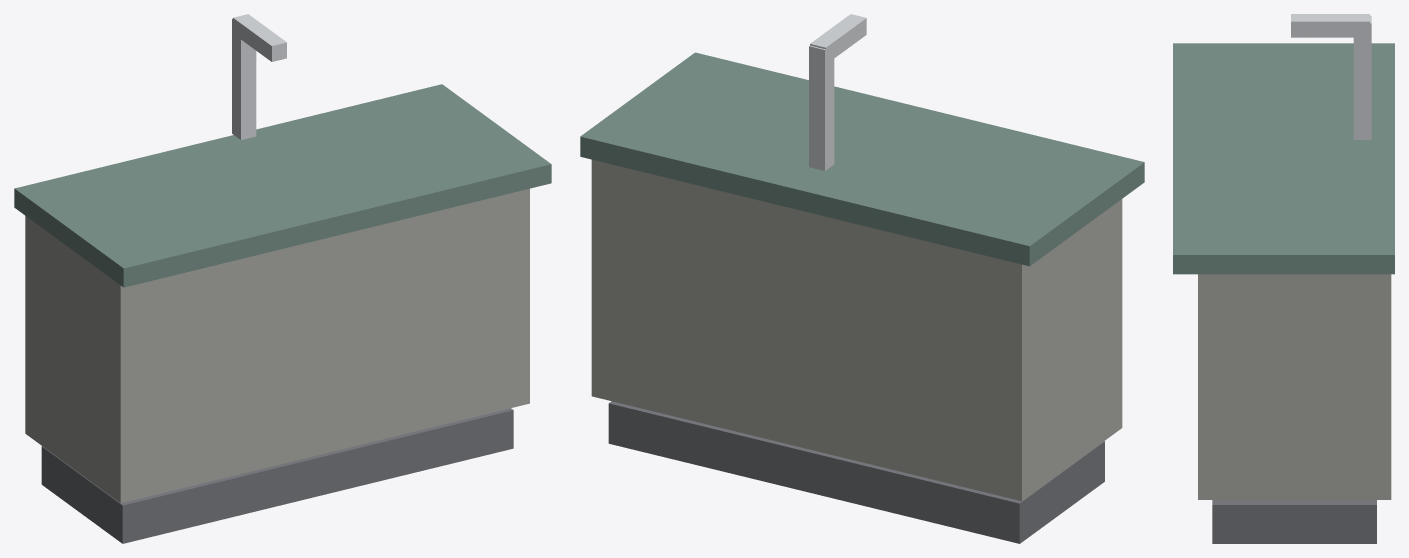
The model's file is mov_91bd95d403.gltf.
3 renders of one model, left to right at view 1: azimuth 30°, elevation 25°; view 2: azimuth 150°, elevation 25°; view 3: azimuth 270°, elevation 25°, orthographic. The views are drawn at different scales.
Visible parts, largest first — view 1: mov_91bd95d403; view 2: mov_91bd95d403; view 3: mov_91bd95d403.
Boxes of the visible parts, x1,y1,x2,y2 form: mov_91bd95d403: (14,14,551,543); mov_91bd95d403: (580,14,1144,543); mov_91bd95d403: (1173,14,1394,543).
Size of the model in its own units: 1.4 by 1.33 by 0.62.
